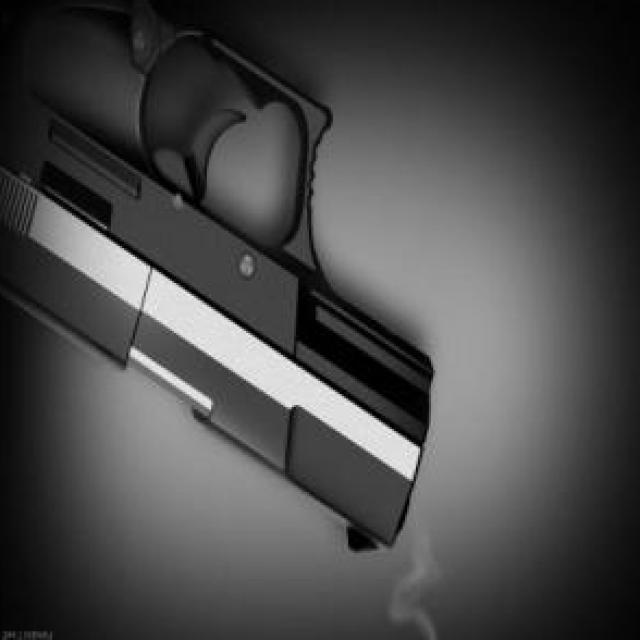pistol: (0, 0, 427, 568)
